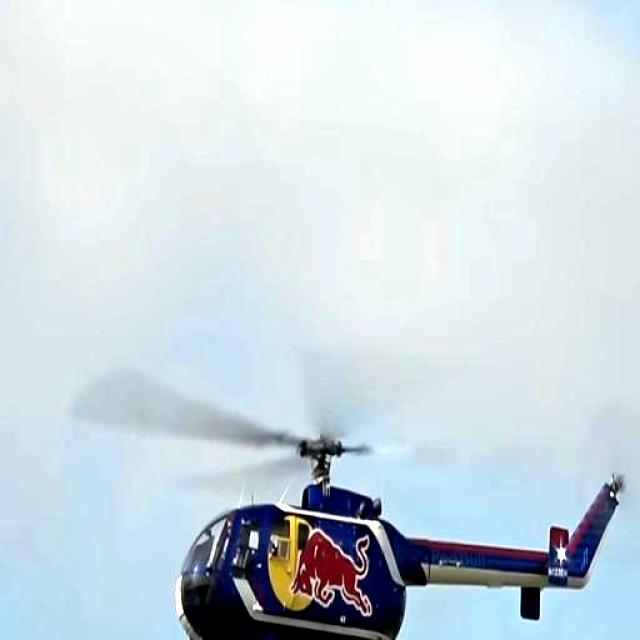drone: (98, 339, 640, 640)
